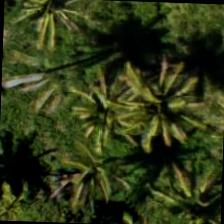Kelapa_Sawit: (42, 60, 136, 152), (122, 58, 215, 150), (43, 138, 138, 223), (2, 0, 73, 57), (170, 154, 222, 223)
